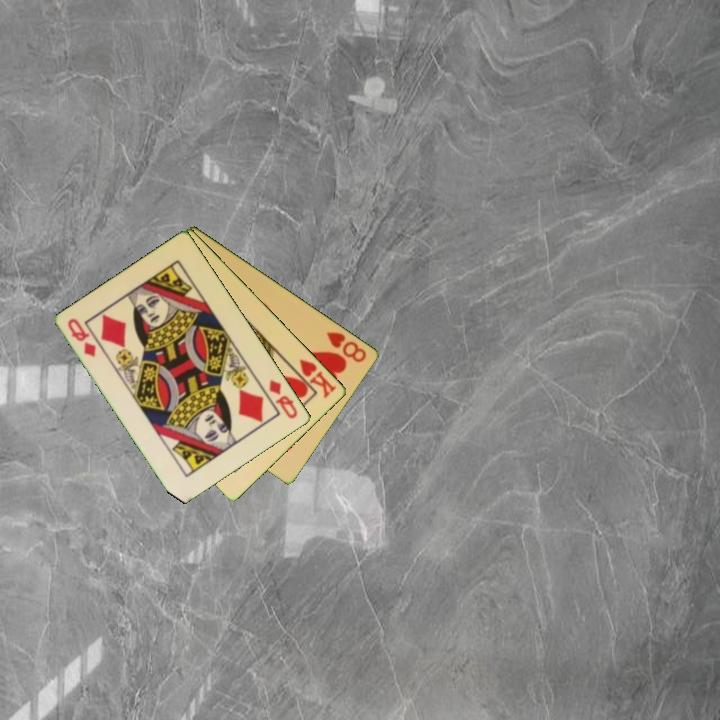8h: (323, 328, 370, 365)
Kh: (288, 355, 340, 401)
Qd: (64, 315, 100, 360), (266, 376, 301, 422)
